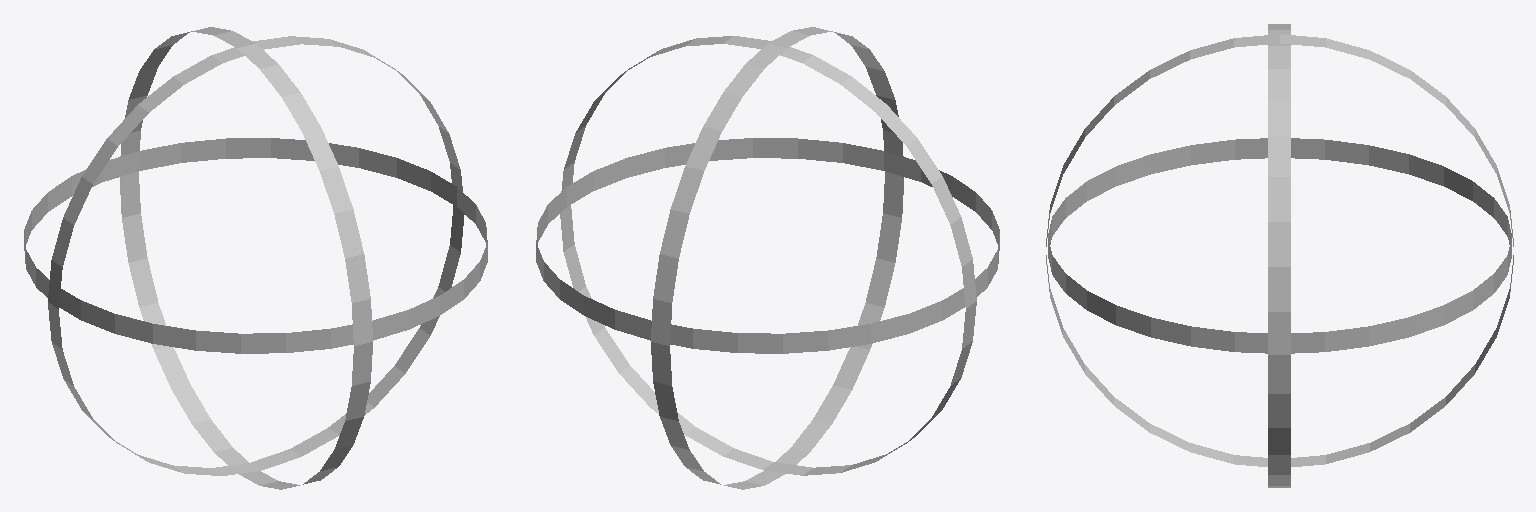
The model's file is rings.obj.
3 renders of one model, left to right at view 1: azimuth 30°, elevation 25°; view 2: azimuth 150°, elevation 25°; view 3: azimuth 270°, elevation 25°, orthographic.
Parts seen in each view (by area): view 1: Circle, Circle.001, Circle.002; view 2: Circle, Circle.001, Circle.002; view 3: Circle, Circle.002, Circle.001.
Boxes of the visible parts, <box> form: Circle: <box>24,138,487,353</box>; Circle.001: <box>120,27,372,489</box>; Circle.002: <box>48,36,464,475</box>; Circle: <box>536,138,999,353</box>; Circle.001: <box>651,27,903,489</box>; Circle.002: <box>560,36,976,475</box>; Circle: <box>1048,138,1511,353</box>; Circle.002: <box>1268,24,1290,487</box>; Circle.001: <box>1046,34,1513,466</box>.
Bounding box in the file's own units: 2.02 × 2.02 × 2.02.